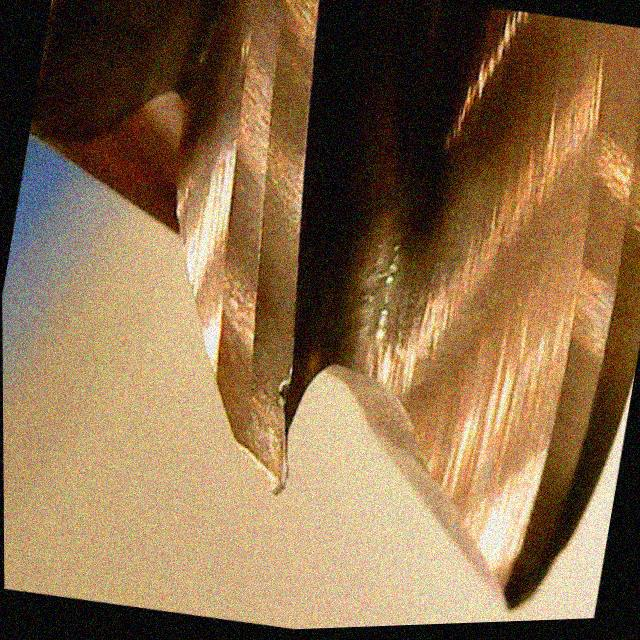Tool-wear-class-1: (179, 259, 344, 521)
